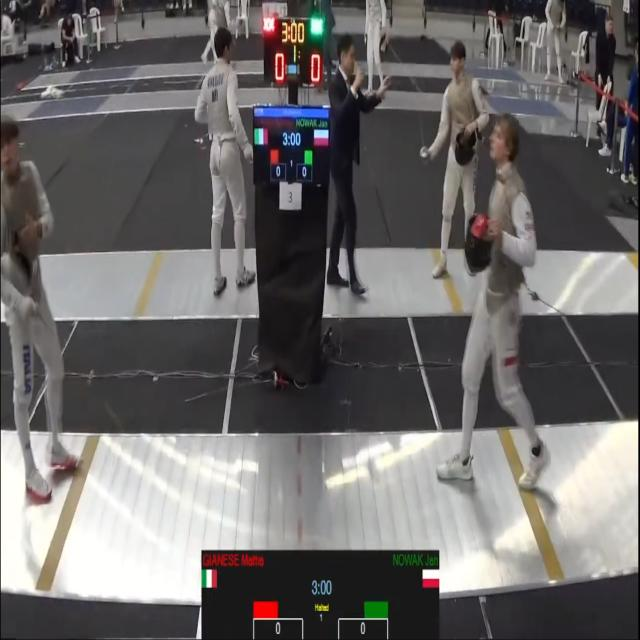fencer: (1, 113, 78, 516), (480, 123, 553, 536)
overlayLeft: (201, 550, 311, 600)
overlayRight: (332, 552, 439, 597)
scoreLeft: (264, 619, 300, 640)
scoreRight: (342, 621, 374, 640)
